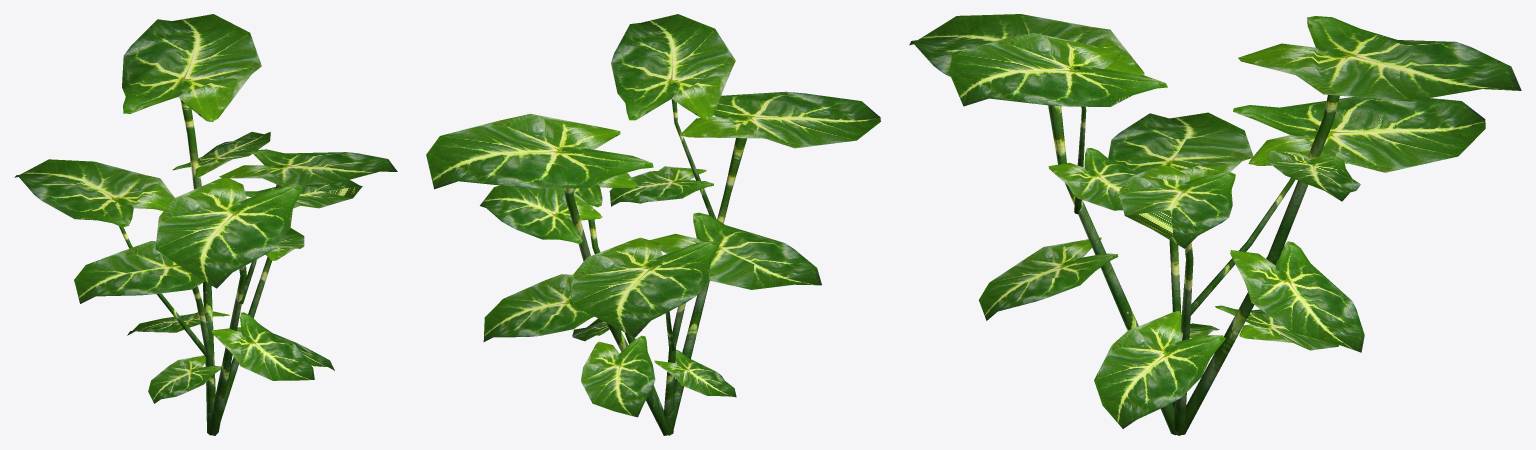
File: Arrowhead1.fbx
The picture shows the model from 3 angles, left to right: view 1: azimuth 30°, elevation 25°; view 2: azimuth 150°, elevation 25°; view 3: azimuth 270°, elevation 25°; orthographic projection. The views are drawn at different scales.
Parts seen in each view (by area): view 1: Arrowhead1; view 2: Arrowhead1; view 3: Arrowhead1.
Boxes of the visible parts, x1,y1,x2,y2 form: Arrowhead1: (14, 14, 397, 435); Arrowhead1: (426, 14, 880, 435); Arrowhead1: (909, 14, 1521, 435).
Bounding box in the file's own units: 41.94 × 43.55 × 57.77.
